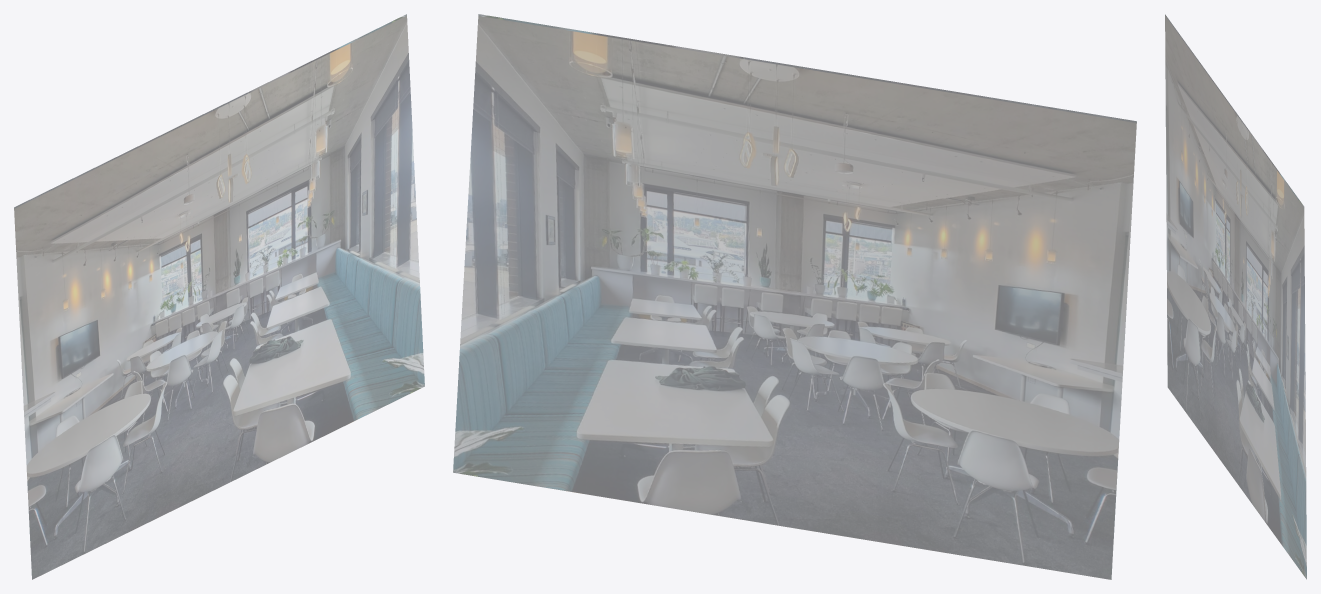
Rendered from ai2_camera_ref.fbx.
The picture shows the model from 3 angles, left to right: view 1: azimuth 30°, elevation 25°; view 2: azimuth 150°, elevation 25°; view 3: azimuth 270°, elevation 25°; orthographic projection. The views are drawn at different scales.
Parts seen in each view (by area): view 1: pCube2; view 2: pCube2; view 3: pCube2.
Boxes of the visible parts, bbox=[...] form: pCube2: bbox=[14, 14, 424, 579]; pCube2: bbox=[453, 14, 1136, 579]; pCube2: bbox=[1165, 14, 1306, 579].
Bounding box in the file's own units: 1.89 × 1.51 × 0.4977.
